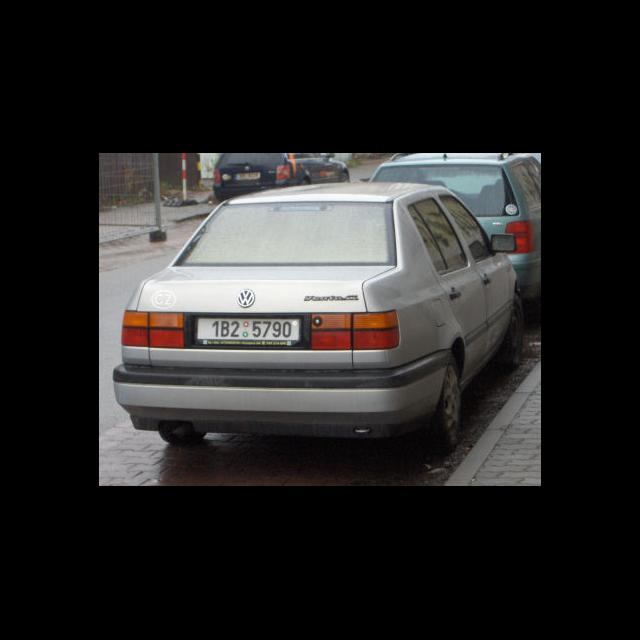Plate: (193, 314, 302, 346)
